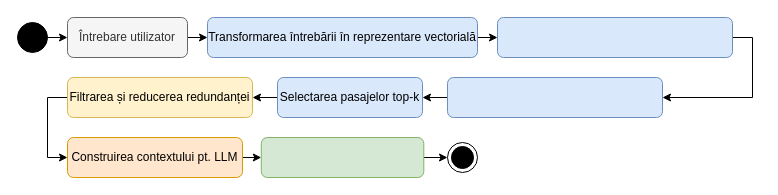
The diagram is 778 pixels wide and 195 high, and some of its shapes have lost their labels. The centre of each missing label's shape, as x and y in pixels:
Calculul similarității cu chunk-uri indexate: the point at 614,37
Generarea răspunsului final: the point at 342,157
Ordonarea chunk-urilor după relevanță: the point at 554,97
